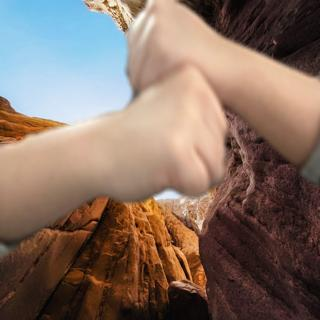CAREFUL: (47, 0, 304, 213)
